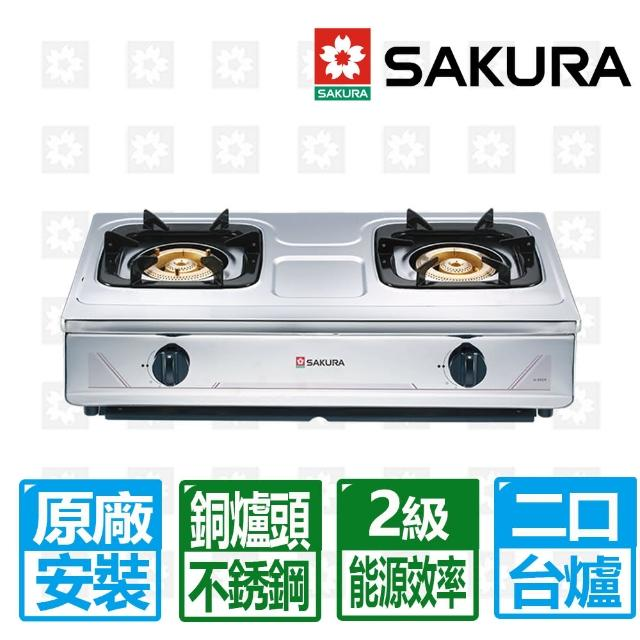gasoven: (58, 204, 582, 430)
